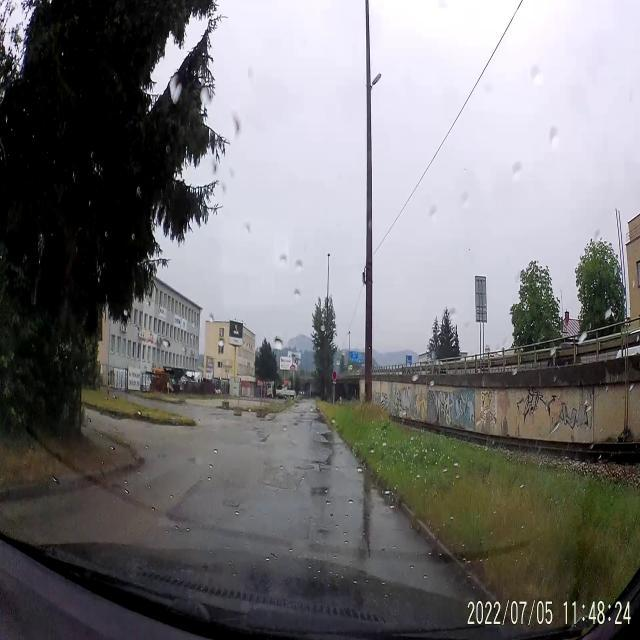Manhole: (292, 458, 318, 478)
Pothole: (313, 452, 334, 470), (259, 428, 271, 446), (186, 452, 197, 468), (320, 430, 332, 444)
